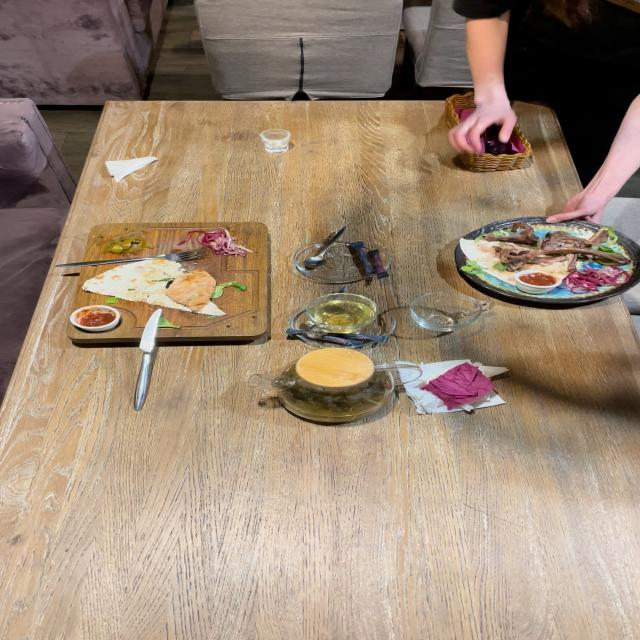bone-in steak: (501, 234, 606, 268)
flatbread: (123, 264, 220, 310)
plate: (451, 217, 640, 307)
shot: (258, 127, 298, 156)
tea: (246, 346, 427, 425)
wooden board: (66, 221, 278, 344)
